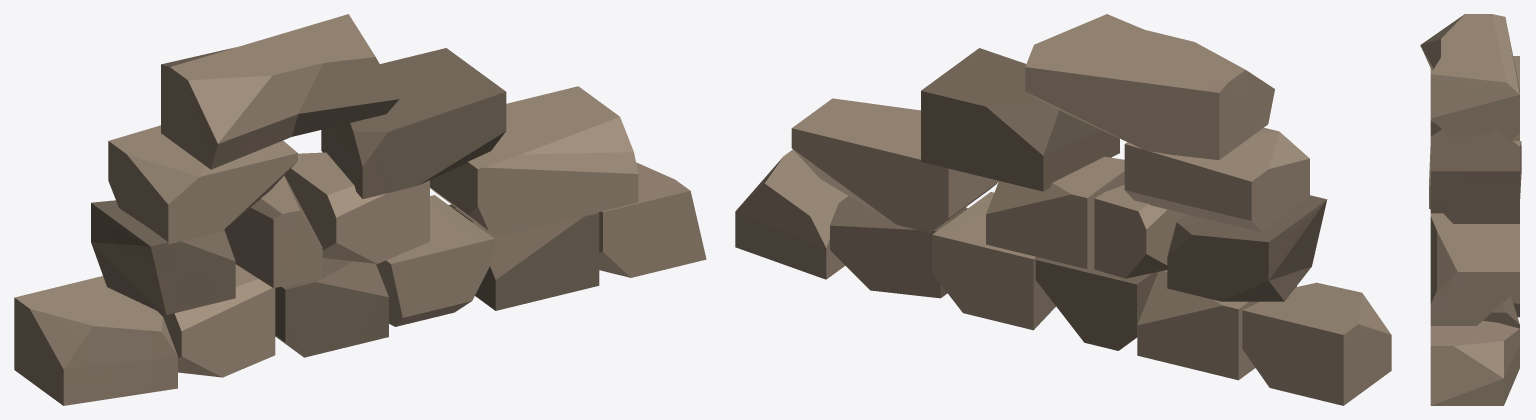
The model's file is kit-rubble.glb.
The picture shows the model from 3 angles, left to right: view 1: azimuth 30°, elevation 25°; view 2: azimuth 150°, elevation 25°; view 3: azimuth 270°, elevation 25°; orthographic projection. The views are drawn at different scales.
Parts seen in each view (by area): view 1: Cube.222; view 2: Cube.222; view 3: Cube.222.
Part boxes in pixels (x1,y1,x2,y2): Cube.222: [14, 14, 706, 405]; Cube.222: [735, 14, 1391, 405]; Cube.222: [1420, 14, 1521, 405].
Bounding box in the file's own units: 1.66 × 0.7086 × 0.3086.
1 material, 1 textured.
